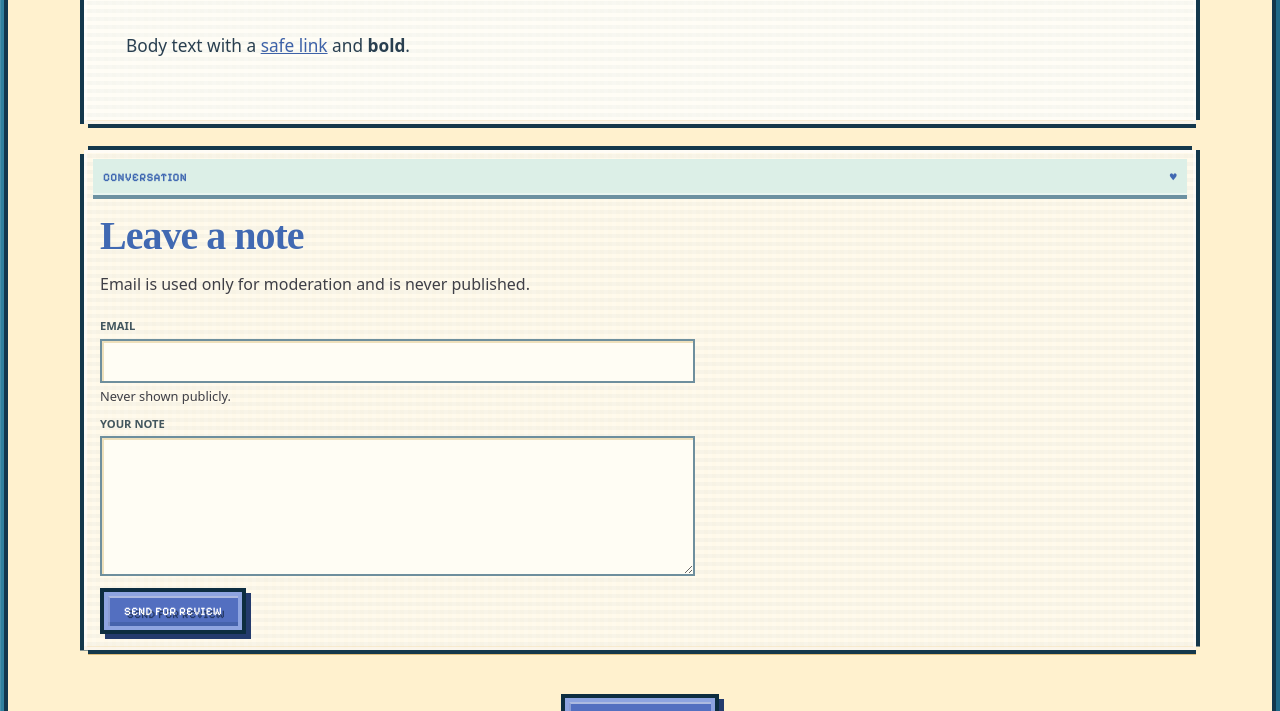
Test case: public pages › article page › submits an article note and refreshes an expired token without losing the note
(page scrolled)
Expected: the heading "Leave a note" is shown, top-left (100, 213), bottom-right (304, 258)
Type "person@example.test" into the field labelled "Email".
click(397, 360); type("person@example.test")  # box top-left (100, 338), bottom-right (695, 382)
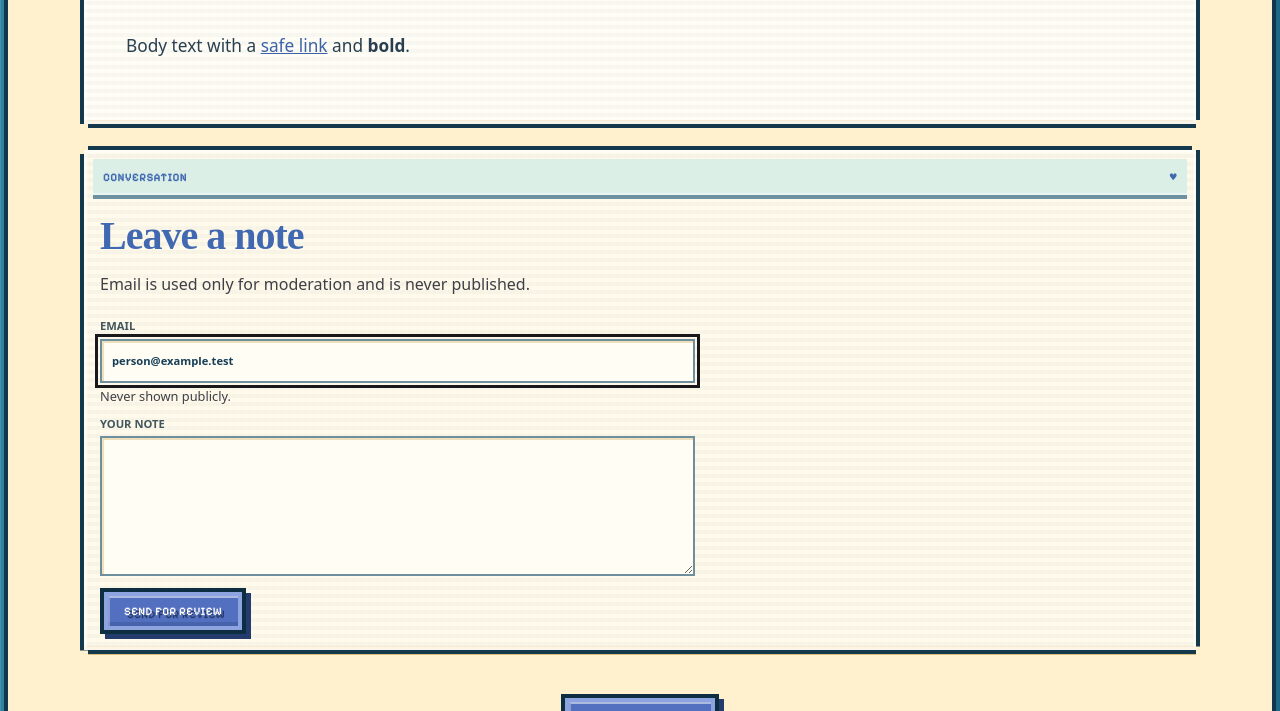
Type "A useful note" into the text box labelled "Your note".
click(397, 506); type("A useful note")  # box top-left (100, 436), bottom-right (695, 576)
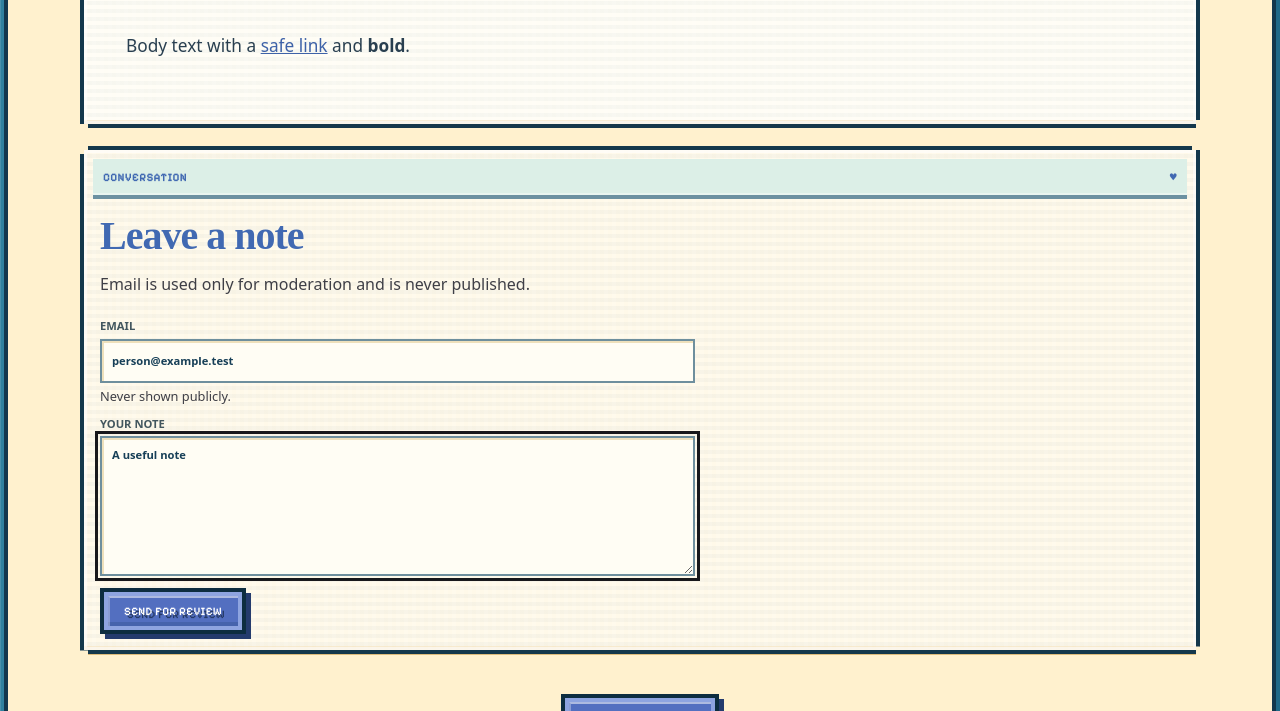
Click the button "Send for review".
click(173, 611)  # box top-left (100, 588), bottom-right (246, 634)
(page scrolled)
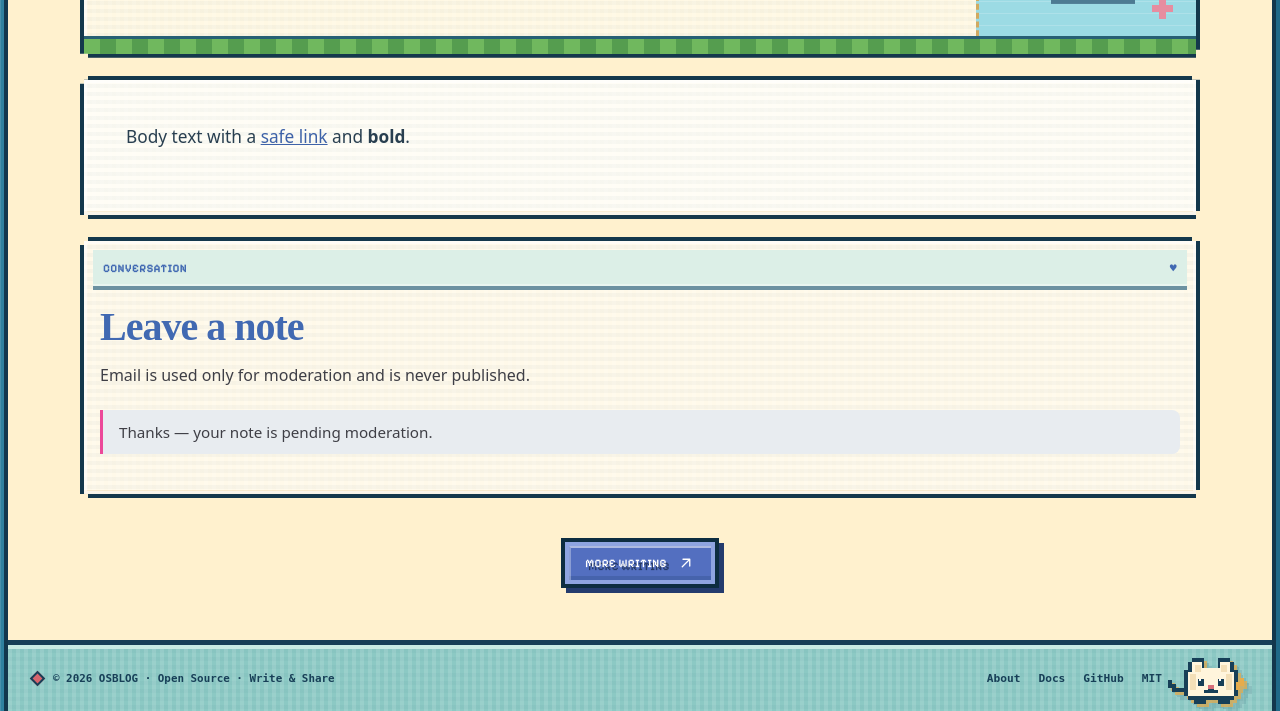
Now the message shows "pending moderation", box top-left (119, 422), bottom-right (432, 442)
